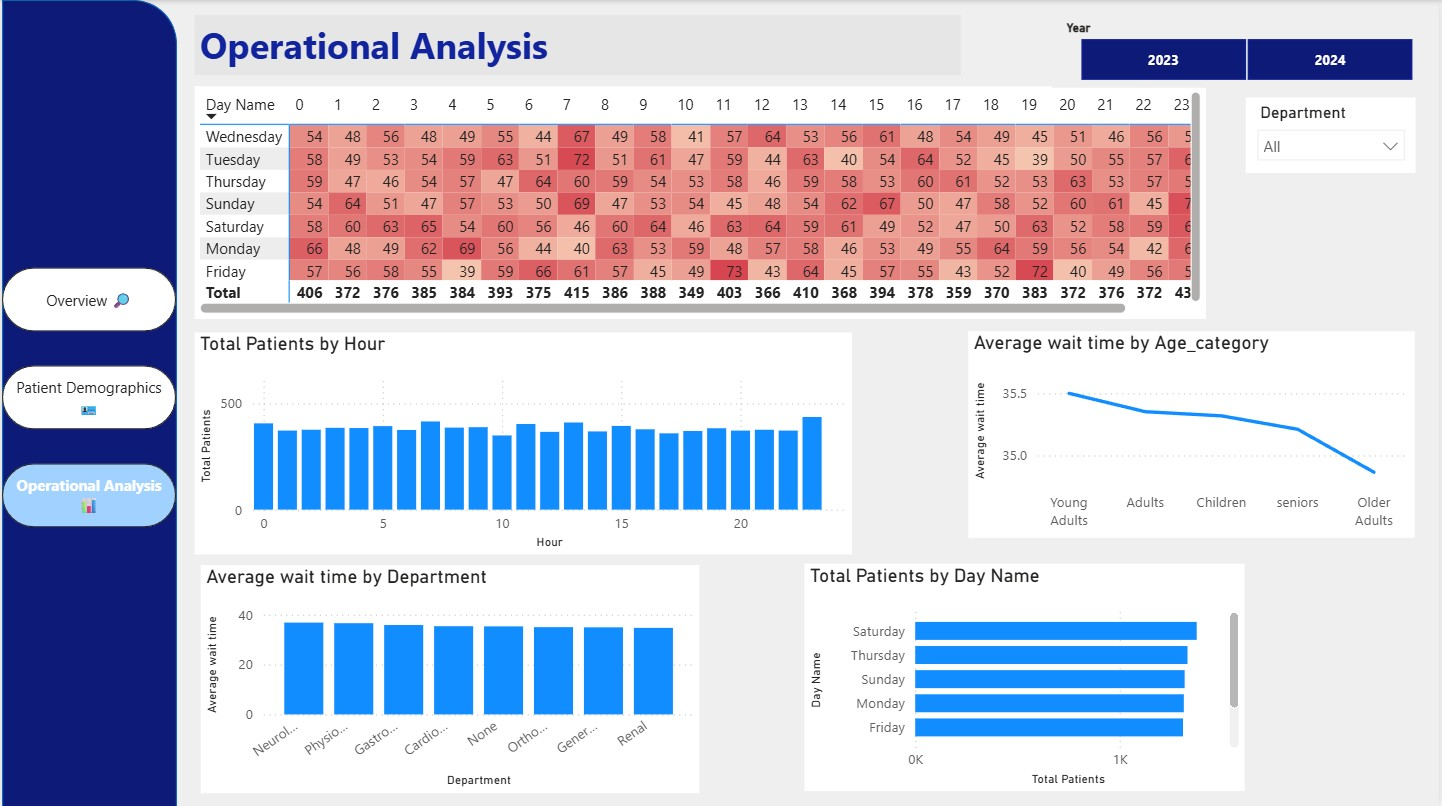

What the dashboard file says about the page in this screenshot:
{"tool":"powerbi","page":{"name":"Operational Analysis 📊","canvas":[1280,720],"ordinal":2},"visuals":[{"type":"shape","box":[0,0,155.8,720.2],"z":0,"group":"g1"},{"type":"textbox","box":[171.8,13.5,682.2,54],"z":0},{"type":"pivotTable","fields":{"Rows":["HospitalER_cleaned.Day Name"],"Columns":["HospitalER_cleaned.Hour"],"Values":["HospitalER_cleaned.Total Patients"]},"box":[171.4,77.1,901,207],"z":1000},{"type":"pageNavigator","box":[0,238.6,155.7,231.4],"z":1000,"group":"g1"},{"type":"group","id":"g1","title":"Group 1","box":[0,0,155.7,720],"z":2000},{"type":"clusteredColumnChart","fields":{"Category":["HospitalER_cleaned.Hour"],"Y":["HospitalER_cleaned.Total Patients"]},"box":[171.4,295.7,585.3,197.5],"z":3000},{"type":"barChart","fields":{"Category":["HospitalER_cleaned.Day Name"],"Y":["HospitalER_cleaned.Total Patients"]},"box":[715.1,502.3,391.9,202.3],"z":4000},{"type":"slicer","fields":{"Values":["HospitalER_cleaned.Admission_Date.Variation.Date Hierarchy.Year"]},"box":[935,13.5,345.1,64.8],"z":5000},{"type":"slicer","fields":{"Values":["HospitalER_cleaned.Department"]},"box":[1107.1,87.1,151.4,67.1],"z":6000},{"type":"clusteredColumnChart","fields":{"Category":["HospitalER_cleaned.Department"],"Y":["HospitalER_cleaned.Average wait time"]},"box":[177.1,502.9,444.3,202.9],"z":7000},{"type":"lineChart","fields":{"Category":["HospitalER_cleaned.Age_category"],"Y":["HospitalER_cleaned.Average wait time"]},"box":[860.5,295.3,397.7,183.7],"z":7001}]}

Visuals, with their boxes in screenshot pixels (x1, y1, x2, y2), scaled from the page's 1280x720 canvas onto the 1442x806 screenshot:
shape: BBox(0, 0, 176, 805)
textbox: BBox(194, 15, 962, 76)
pivotTable - HospitalER_cleaned.Day Name x HospitalER_cleaned.Hour: BBox(193, 86, 1208, 318)
pageNavigator: BBox(0, 267, 175, 526)
"Group 1" group: BBox(0, 0, 175, 805)
clusteredColumnChart - HospitalER_cleaned.Hour x HospitalER_cleaned.Total Patients: BBox(193, 331, 852, 552)
barChart - HospitalER_cleaned.Day Name x HospitalER_cleaned.Total Patients: BBox(806, 562, 1247, 789)
slicer - HospitalER_cleaned.Admission_Date.Variation.Date Hierarchy.Year: BBox(1053, 15, 1441, 88)
slicer - HospitalER_cleaned.Department: BBox(1247, 98, 1418, 173)
clusteredColumnChart - HospitalER_cleaned.Department x HospitalER_cleaned.Average wait time: BBox(200, 563, 700, 790)
lineChart - HospitalER_cleaned.Age_category x HospitalER_cleaned.Average wait time: BBox(969, 331, 1417, 536)
